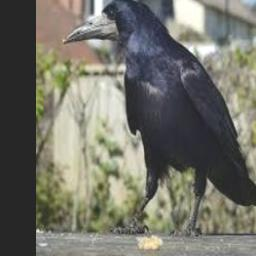Crow: (63, 0, 256, 237)
